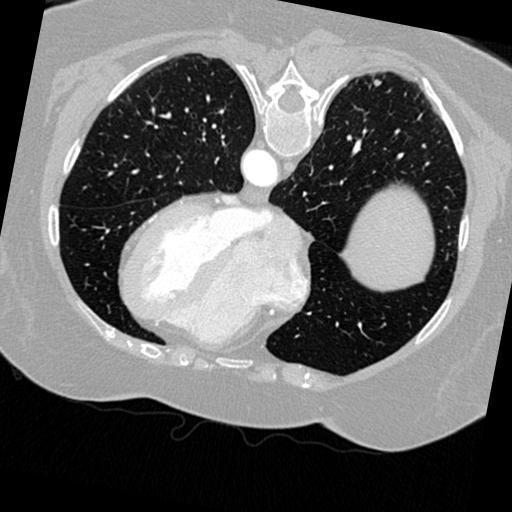nodule: (373, 77, 386, 90)
